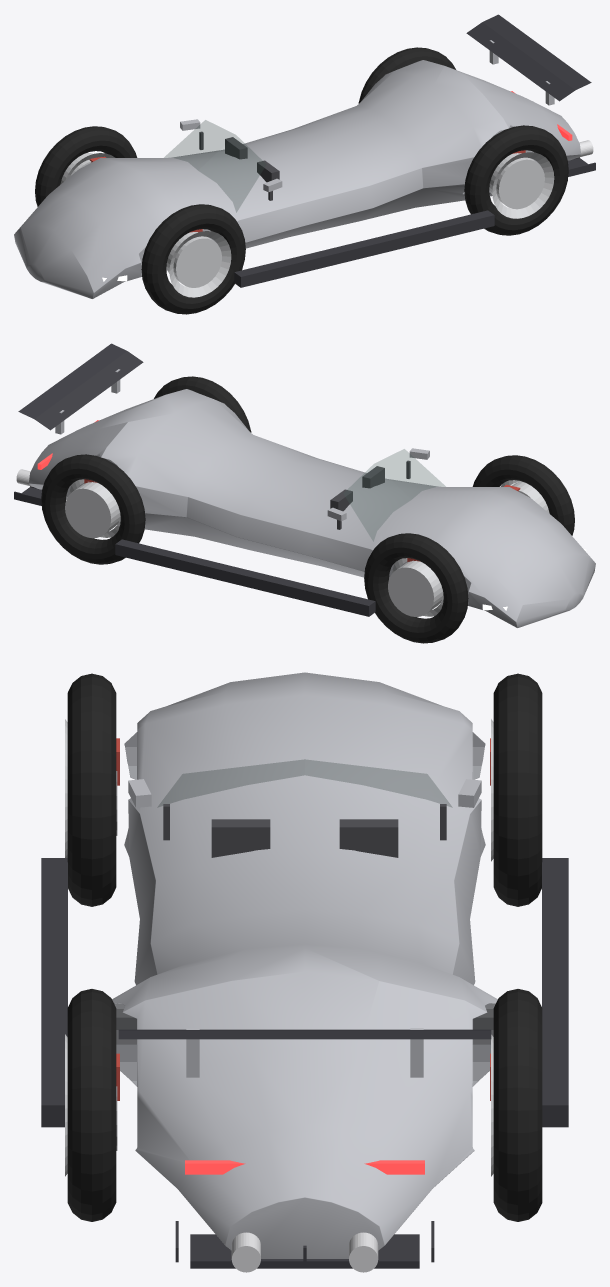
Rendered from cx-vortex-spyder.glb.
3 renders of one model, top to bottom at view 1: azimuth 30°, elevation 25°; view 2: azimuth 150°, elevation 25°; view 3: azimuth 270°, elevation 25°, orthographic. The views are drawn at different scales.
Parts seen in each view (by area): view 1: CX_Body, CX_Tire_FR, CX_Tire_RR, Side_Skirt_Wide_R, CX_Glass_Windshield, Spoiler, CX_Rim_FR, CX_Rim_RR, CX_Tire_FL, CX_Tire_RL, CX_Rim_FL; view 2: CX_Body, CX_Tire_FL, CX_Tire_RL, Side_Skirt_Wide_L, CX_Glass_Windshield, Spoiler, CX_Tire_FR, CX_Rim_FL, CX_Rim_RL, CX_Tire_RR, CX_Rim_FR; view 3: CX_Body, CX_Tire_RL, CX_Tire_RR, CX_Tire_FL, CX_Tire_FR, Side_Skirt_Wide_L, Side_Skirt_Wide_R, CX_Glass_Windshield, Spoiler, Diffuser, CX_SeatBack_L, CX_SeatBack_R (+2 smaller).
Boxes of the visible parts, x1,y1,x2,y2 form: CX_Body: (14, 60, 581, 298); CX_Tire_FR: (141, 204, 245, 314); CX_Tire_RR: (464, 125, 568, 235); Side_Skirt_Wide_R: (234, 210, 494, 287); CX_Glass_Windshield: (164, 120, 266, 212); Spoiler: (466, 14, 591, 101); CX_Rim_FR: (166, 231, 231, 297); CX_Rim_RR: (489, 152, 554, 218); CX_Tire_FL: (35, 126, 137, 206); CX_Tire_RL: (358, 47, 455, 103); CX_Rim_FL: (60, 152, 115, 184); CX_Body: (28, 389, 595, 627); CX_Tire_FL: (364, 533, 468, 643); CX_Tire_RL: (41, 454, 145, 564); Side_Skirt_Wide_L: (115, 539, 375, 616); CX_Glass_Windshield: (343, 449, 445, 541); Spoiler: (18, 343, 143, 430); CX_Tire_FR: (472, 455, 574, 535); CX_Rim_FL: (388, 558, 443, 616); CX_Rim_RL: (65, 479, 120, 538); CX_Tire_RR: (154, 376, 251, 432); CX_Rim_FR: (500, 480, 549, 513); CX_Body: (112, 672, 497, 1258); CX_Tire_RL: (493, 989, 542, 1221); CX_Tire_RR: (67, 989, 116, 1221); CX_Tire_FL: (493, 673, 542, 906); CX_Tire_FR: (67, 673, 116, 906); Side_Skirt_Wide_L: (542, 858, 568, 1127); Side_Skirt_Wide_R: (41, 858, 67, 1127); CX_Glass_Windshield: (157, 759, 452, 807); Spoiler: (118, 1029, 491, 1039); Diffuser: (190, 1234, 419, 1268); CX_SeatBack_L: (339, 819, 398, 857); CX_SeatBack_R: (211, 819, 270, 857).
Bounding box in the file's own units: 4.68 × 1.04 × 1.98.
